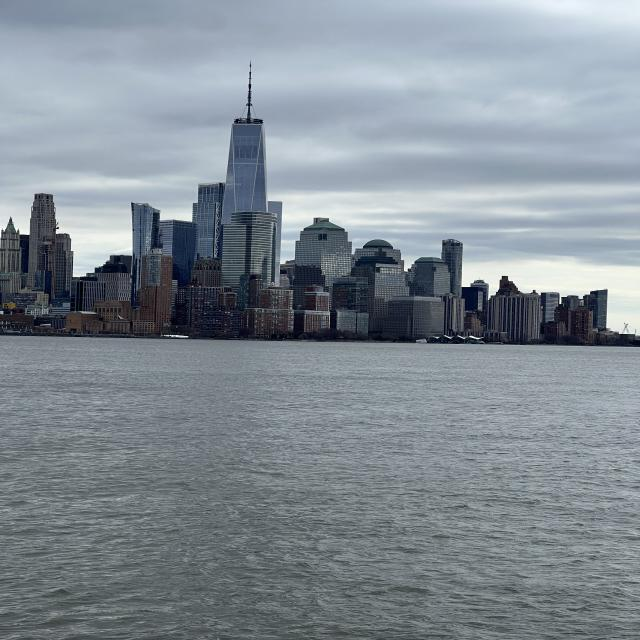WTC: (225, 64, 271, 212)
